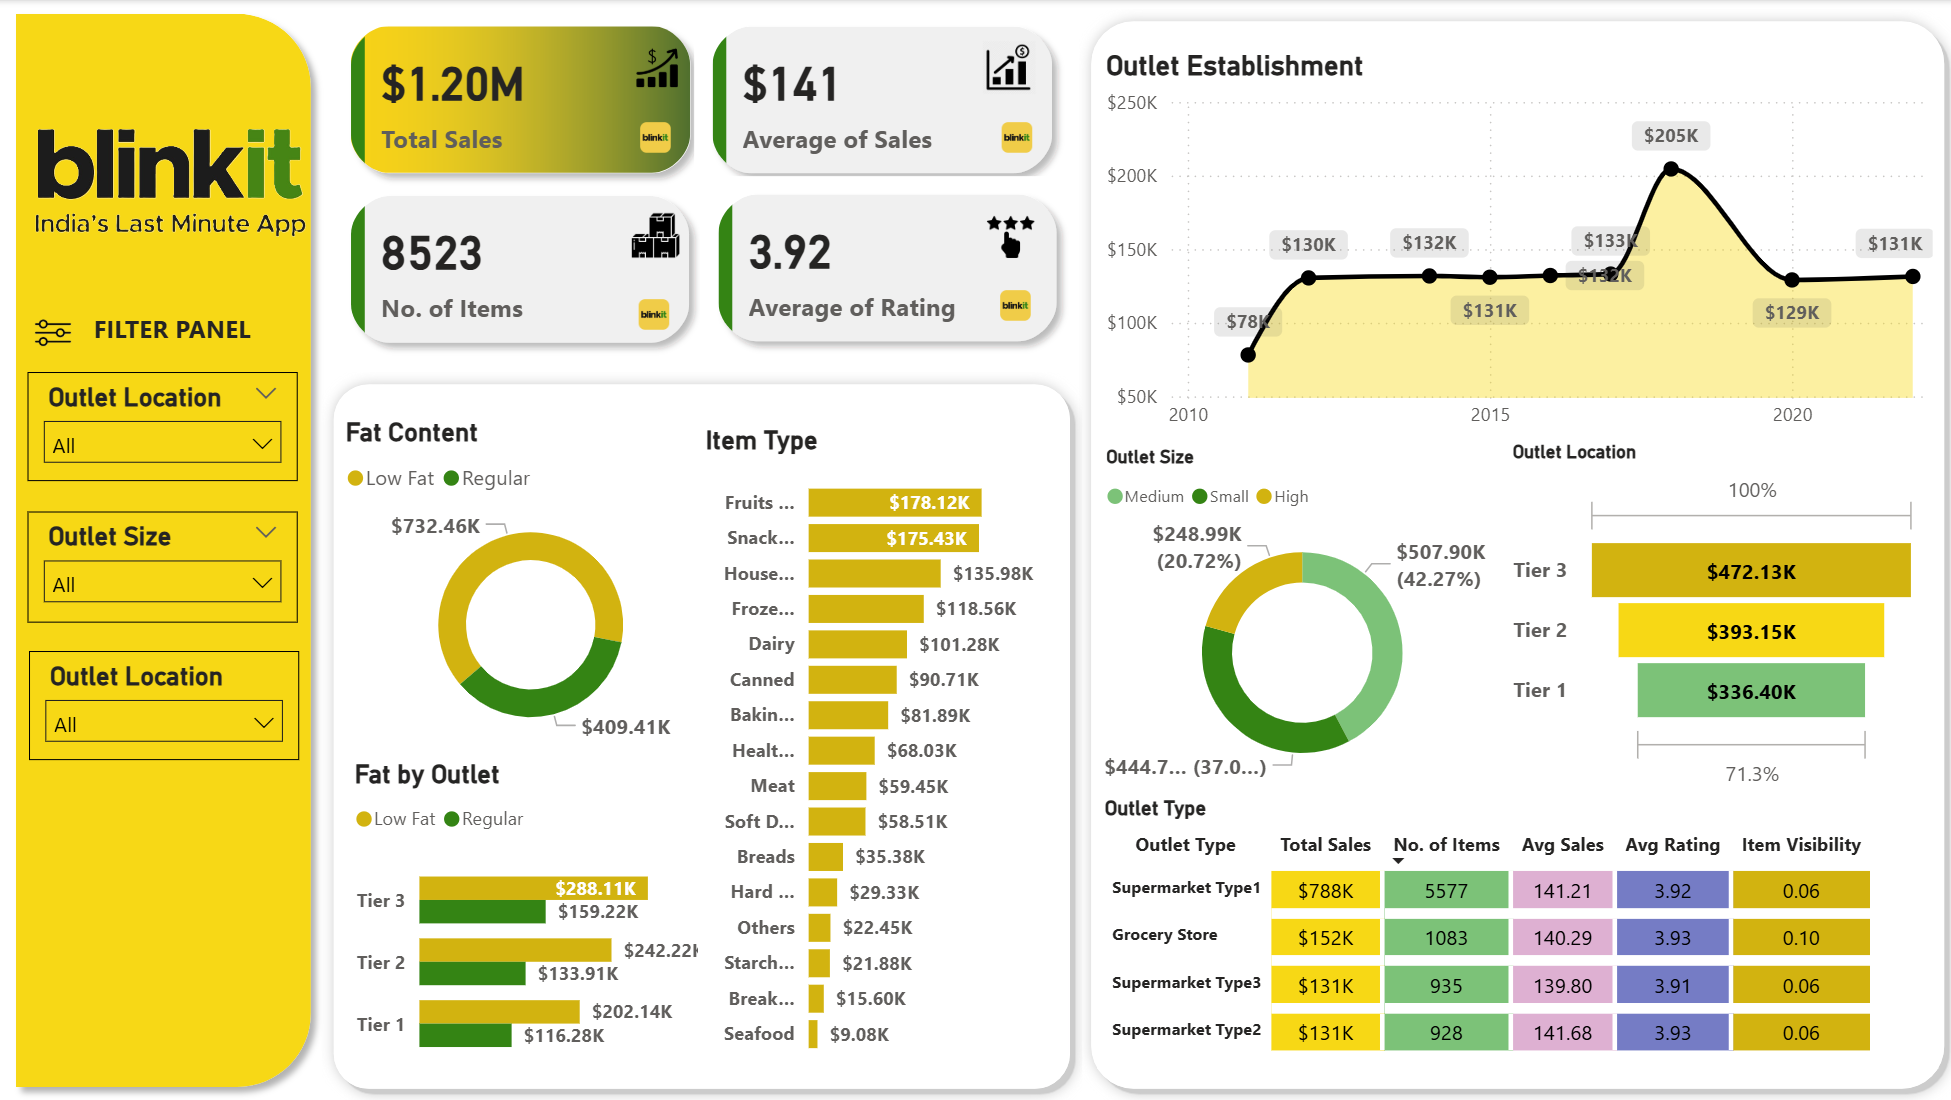

This screenshot's page, from the dashboard's own definition file:
{"tool":"powerbi","page":{"name":"Page 1","canvas":[1280,720],"ordinal":0},"visuals":[{"type":"shape","box":[2.1,0,210.9,719.6],"z":0},{"type":"image","box":[0,0,223.3,237.8],"z":1000},{"type":"image","box":[2.1,192.3,67.2,50.7],"z":2000},{"type":"textbox","box":[56.9,198.5,134.4,31],"z":3000},{"type":"slicer","fields":{"Values":["BlinkIT Grocery Data.Outlet Location Type"]},"box":[18.6,243,176.8,71.3],"z":4000},{"type":"slicer","fields":{"Values":["BlinkIT Grocery Data.Item Type"]},"box":[19.7,426,176.8,71.3],"z":5000},{"type":"slicer","fields":{"Values":["BlinkIT Grocery Data.Outlet Size"]},"box":[18.6,334,176.8,72.4],"z":6000},{"type":"cardVisual","fields":{"Data":["Sum(BlinkIT Grocery Data.Sales)"]},"box":[213,0,256,130.3],"z":7000},{"type":"cardVisual","fields":{"Data":["Avg(BlinkIT Grocery Data.Sales)"]},"box":[448.7,0,256,130.3],"z":8000},{"type":"cardVisual","fields":{"Data":["BlinkIT Grocery Data.No. of Items"]},"box":[213,110.6,255,130],"z":9000},{"type":"cardVisual","fields":{"Data":["Avg(BlinkIT Grocery Data.Rating)"]},"box":[452.9,110,255.4,130.3],"z":10000},{"type":"image","box":[636.9,11.4,45.5,65.1],"z":11000},{"type":"image","box":[408.4,11.4,44.5,65.1],"z":12000},{"type":"image","box":[407.4,122,44.5,65.1],"z":13000},{"type":"image","box":[638.6,123,45.5,65.1],"z":14000},{"type":"image","box":[413.6,74.4,30,30],"z":15000},{"type":"image","box":[650.3,74.5,30,30],"z":16000},{"type":"image","box":[412.6,190.2,30,30],"z":17000},{"type":"image","box":[649,184.1,30,30],"z":18000},{"type":"shape","box":[211,243,497.3,476.6],"z":19000},{"type":"donutChart","title":"Fat Content","fields":{"Y":["Sum(BlinkIT Grocery Data.Sales)"],"Category":["BlinkIT Grocery Data.Item Fat Content"]},"box":[221.3,273,251.2,222.3],"z":20000},{"type":"clusteredBarChart","title":"Fat by Outlet","fields":{"Category":["BlinkIT Grocery Data.Outlet Location Type"],"Y":["Sum(BlinkIT Grocery Data.Sales)"],"Series":["BlinkIT Grocery Data.Item Fat Content"]},"box":[227.5,496.2,249.1,210.8],"z":21000},{"type":"barChart","title":"Item Type","fields":{"Category":["BlinkIT Grocery Data.Item Type"],"Y":["Sum(BlinkIT Grocery Data.Sales)"]},"box":[457,277.1,237.8,421.8],"z":22000},{"type":"shape","box":[706.5,5.5,573.7,713.9],"z":23000},{"type":"lineChart","title":"Outlet Establishment","fields":{"Category":["BlinkIT Grocery Data.Outlet Establishment Year"],"Y":["Sum(BlinkIT Grocery Data.Sales)"]},"box":[718.6,32.1,550,256.4],"z":24000},{"type":"donutChart","title":"Outlet Size","fields":{"Y":["Sum(BlinkIT Grocery Data.Sales)"],"Category":["BlinkIT Grocery Data.Outlet Size"]},"box":[718.6,291.6,265.7,229.5],"z":25000},{"type":"funnel","title":"Outlet Location","fields":{"Category":["BlinkIT Grocery Data.Outlet Location Type"],"Y":["Sum(BlinkIT Grocery Data.Sales)"]},"box":[984.3,288.5,275,232.6],"z":26000},{"type":"pivotTable","title":"Outlet Type","fields":{"Rows":["BlinkIT Grocery Data.Outlet Type"],"Values":["BlinkIT Grocery Data.Total Sales","BlinkIT Grocery Data.No. of Items","BlinkIT Grocery Data.Avg Sales","BlinkIT Grocery Data.Avg Rating","Avg(BlinkIT Grocery Data.Item Visibility)"]},"box":[717.5,521.1,550,177.8],"z":27000}]}

Visuals, with their boxes in screenshot pixels (x1, y1, x2, y2), scaled from the page's 1280x720 canvas onto the 1951x1100 screenshot:
shape: <bbox>3, 0, 325, 1099</bbox>
image: <bbox>0, 0, 340, 363</bbox>
image: <bbox>3, 294, 106, 371</bbox>
textbox: <bbox>87, 303, 292, 351</bbox>
slicer - BlinkIT Grocery Data.Outlet Location Type: <bbox>28, 371, 298, 480</bbox>
slicer - BlinkIT Grocery Data.Item Type: <bbox>30, 651, 300, 760</bbox>
slicer - BlinkIT Grocery Data.Outlet Size: <bbox>28, 510, 298, 621</bbox>
cardVisual - Sum(BlinkIT Grocery Data.Sales): <bbox>325, 0, 715, 199</bbox>
cardVisual - Avg(BlinkIT Grocery Data.Sales): <bbox>684, 0, 1074, 199</bbox>
cardVisual - BlinkIT Grocery Data.No. of Items: <bbox>325, 169, 713, 368</bbox>
cardVisual - Avg(BlinkIT Grocery Data.Rating): <bbox>690, 168, 1080, 367</bbox>
image: <bbox>971, 17, 1040, 117</bbox>
image: <bbox>622, 17, 690, 117</bbox>
image: <bbox>621, 186, 689, 286</bbox>
image: <bbox>973, 188, 1043, 287</bbox>
image: <bbox>630, 114, 676, 160</bbox>
image: <bbox>991, 114, 1037, 160</bbox>
image: <bbox>629, 291, 675, 336</bbox>
image: <bbox>989, 281, 1035, 327</bbox>
shape: <bbox>322, 371, 1080, 1099</bbox>
"Fat Content" donutChart: <bbox>337, 417, 720, 757</bbox>
"Fat by Outlet" clusteredBarChart: <bbox>347, 758, 726, 1080</bbox>
"Item Type" barChart: <bbox>697, 423, 1059, 1068</bbox>
shape: <bbox>1077, 8, 1950, 1099</bbox>
"Outlet Establishment" lineChart: <bbox>1095, 49, 1934, 441</bbox>
"Outlet Size" donutChart: <bbox>1095, 446, 1500, 796</bbox>
"Outlet Location" funnel: <bbox>1500, 441, 1919, 796</bbox>
"Outlet Type" pivotTable: <bbox>1094, 796, 1932, 1068</bbox>
